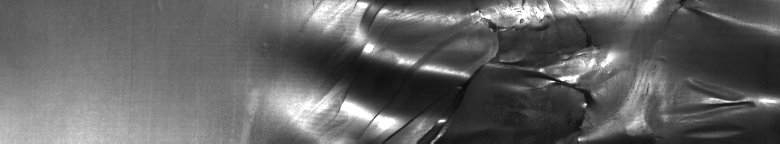ke: (328, 4, 776, 136)
